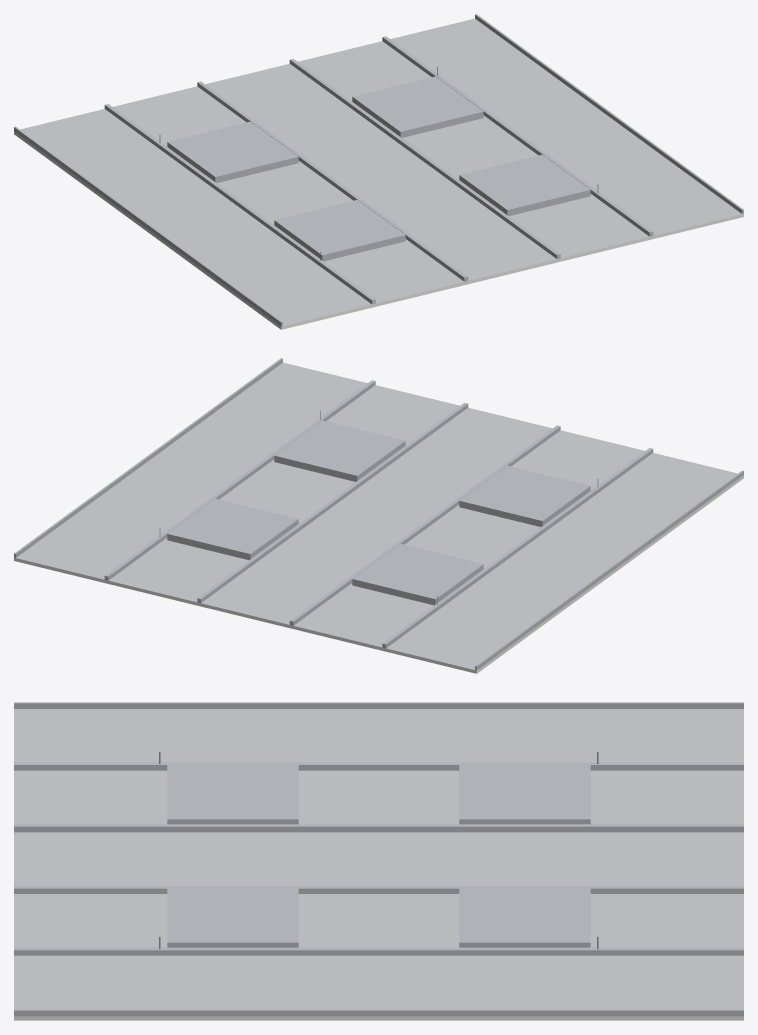
File: SC_Bld_Store_Ceiling_3x3.gltf
3 renders of one model, top to bottom at view 1: azimuth 30°, elevation 25°; view 2: azimuth 150°, elevation 25°; view 3: azimuth 270°, elevation 25°, orthographic. The views are drawn at different scales.
Visible parts, largest first — view 1: SC_Bld_Store_Ceiling_3x3; view 2: SC_Bld_Store_Ceiling_3x3; view 3: SC_Bld_Store_Ceiling_3x3.
Boxes of the visible parts, x1,y1,x2,y2 form: SC_Bld_Store_Ceiling_3x3: (14,14,743,329); SC_Bld_Store_Ceiling_3x3: (14,358,743,673); SC_Bld_Store_Ceiling_3x3: (14,702,743,1020).
Bounding box in the file's own units: 3 × 0.144 × 3.
Materials: 2 (2 with a texture image).
